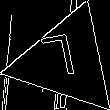L_S: (45, 34, 87, 89)
